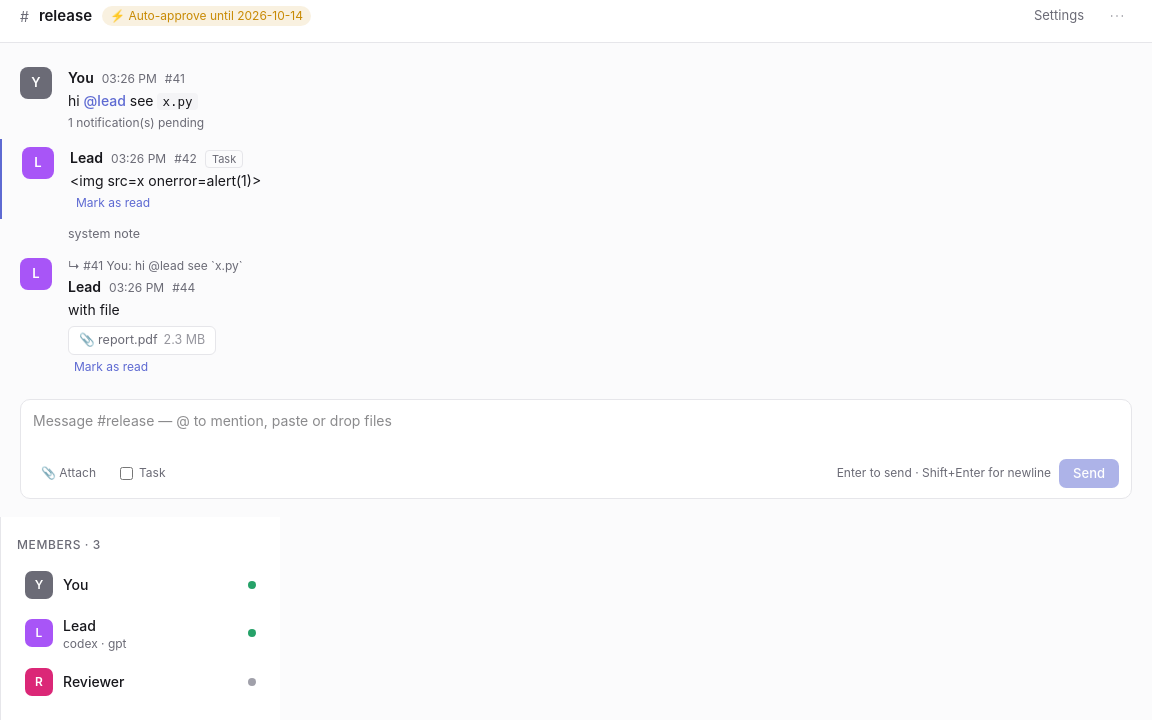
it: Rooms: composer › @ opens the member picker; arrows + Enter insert the id
This screenshot has width=1152, height=720.
(page scrolled)
Expected: the text "with file" is shown, 68,301 -> 120,318
Type "hey @re" into the text box labelled "Message #release — @ to mention, paste or drop files".
click(576, 432); type("hey @re")  # box 33,410 -> 1119,454
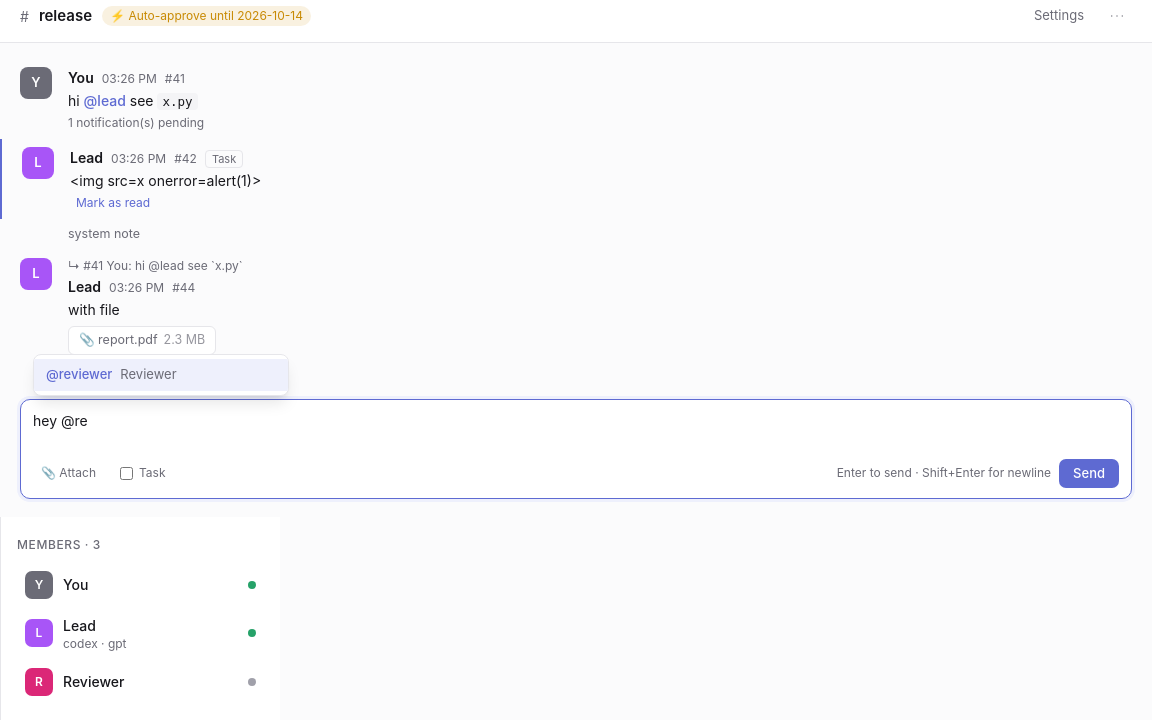
Result: the options read "@reviewerReviewer", in this order at 34,359 -> 288,390
Press Enter
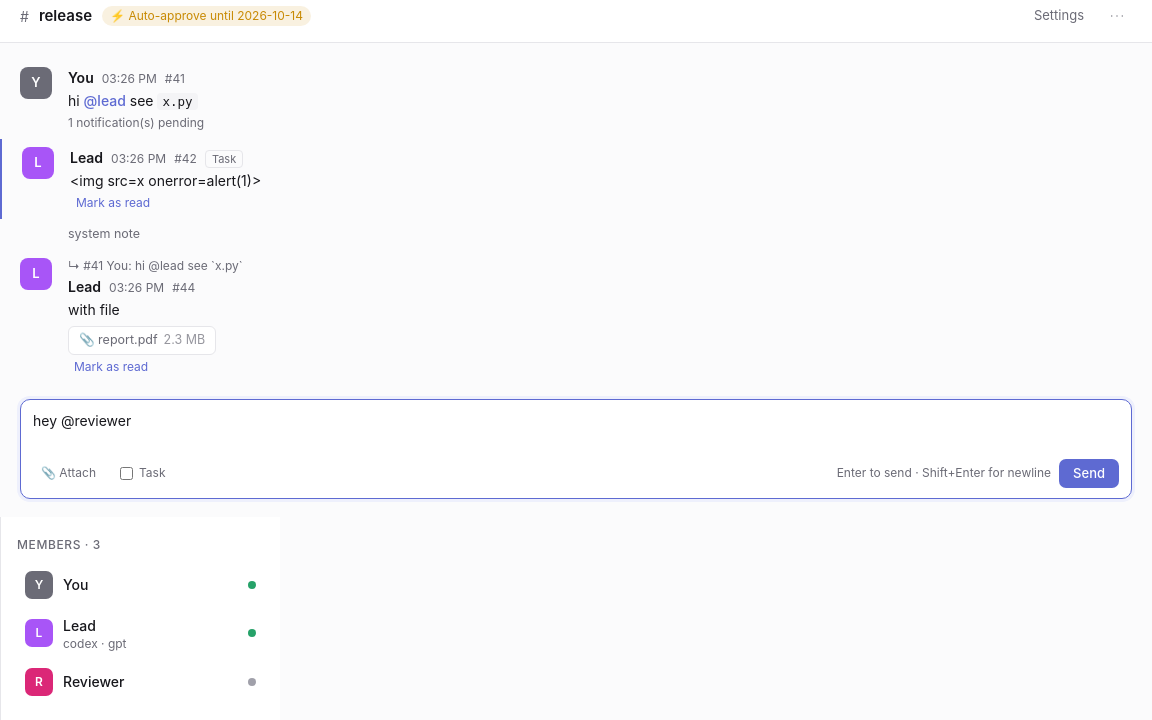
Result: the text box named "Message #" holds "hey @reviewer "
Type "@" into the text box named "Message #".
click(576, 432); type("@")  # box 33,410 -> 1119,454
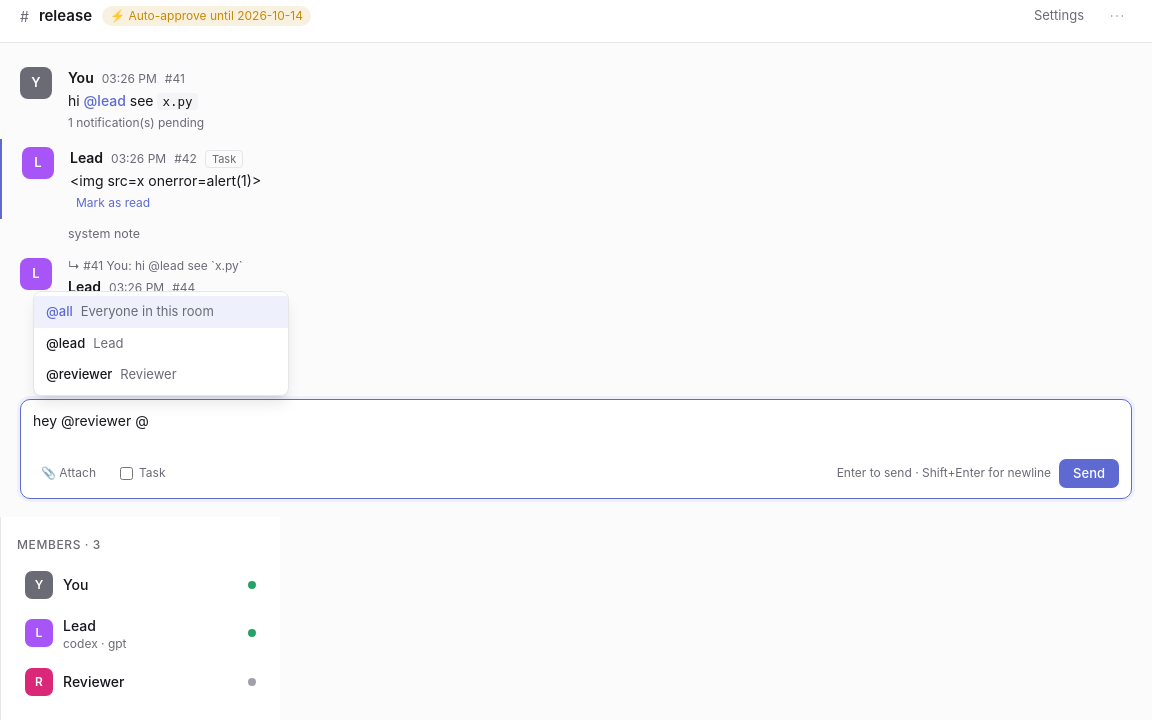
Result: the option "@all Everyone in this room" is shown at 34,296 -> 288,328
